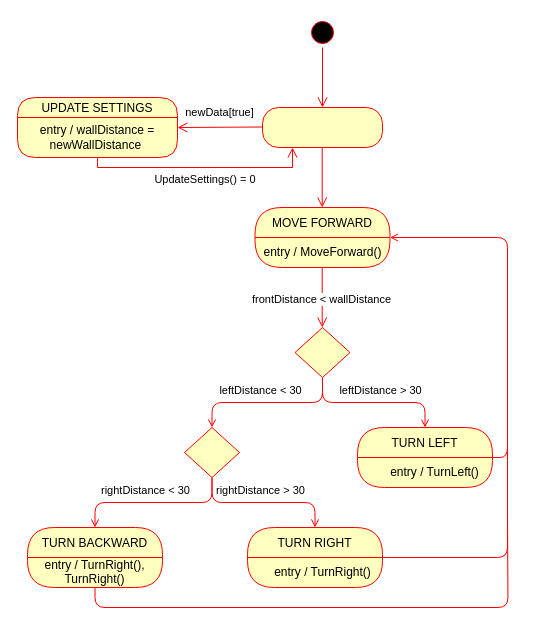
Some shapes in this 533 by 626 pixel diagram are drawn without their labels. The centre of each missing label's shape, as x and y in pixels:
"Check Left" goes at [322,352].
"Check Right" goes at [212,452].
"IDLE" goes at [322,127].
